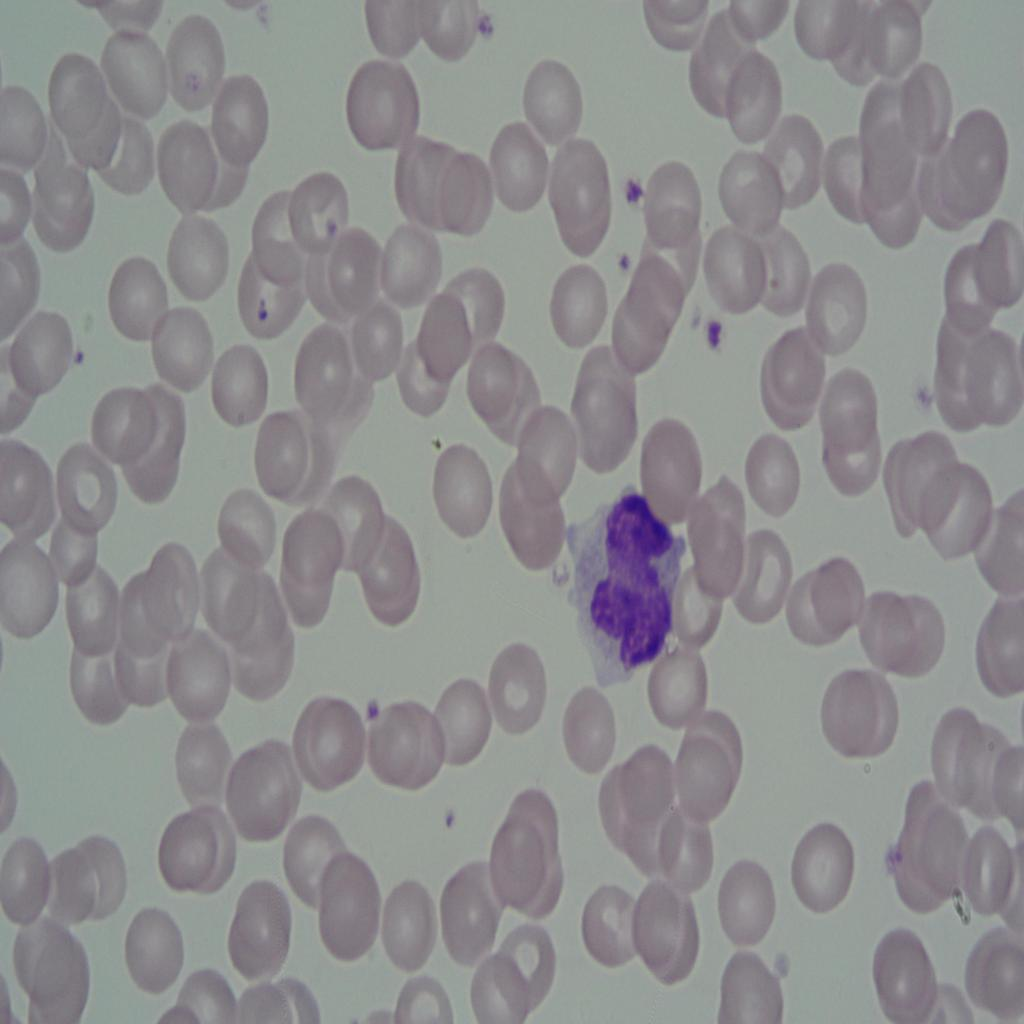Myeoblast: (568, 480, 687, 685)
Platelet: (68, 333, 105, 393), (354, 678, 390, 734), (708, 312, 734, 376), (307, 205, 342, 248), (252, 290, 281, 340), (464, 0, 498, 39), (624, 169, 648, 222), (434, 807, 461, 840), (614, 254, 638, 289)
